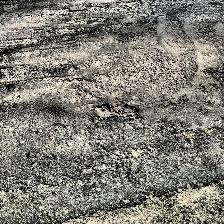pothole: (51, 180, 224, 224), (91, 102, 138, 120)
